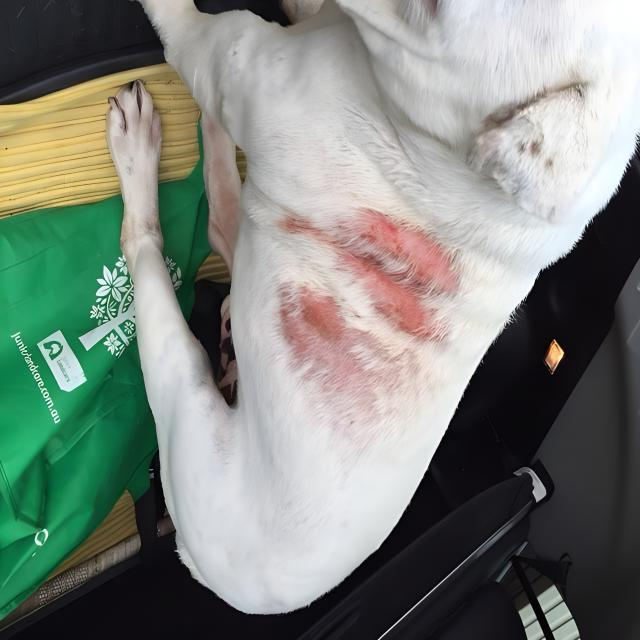allergic dermatitis: (268, 201, 457, 348), (272, 282, 384, 436)
